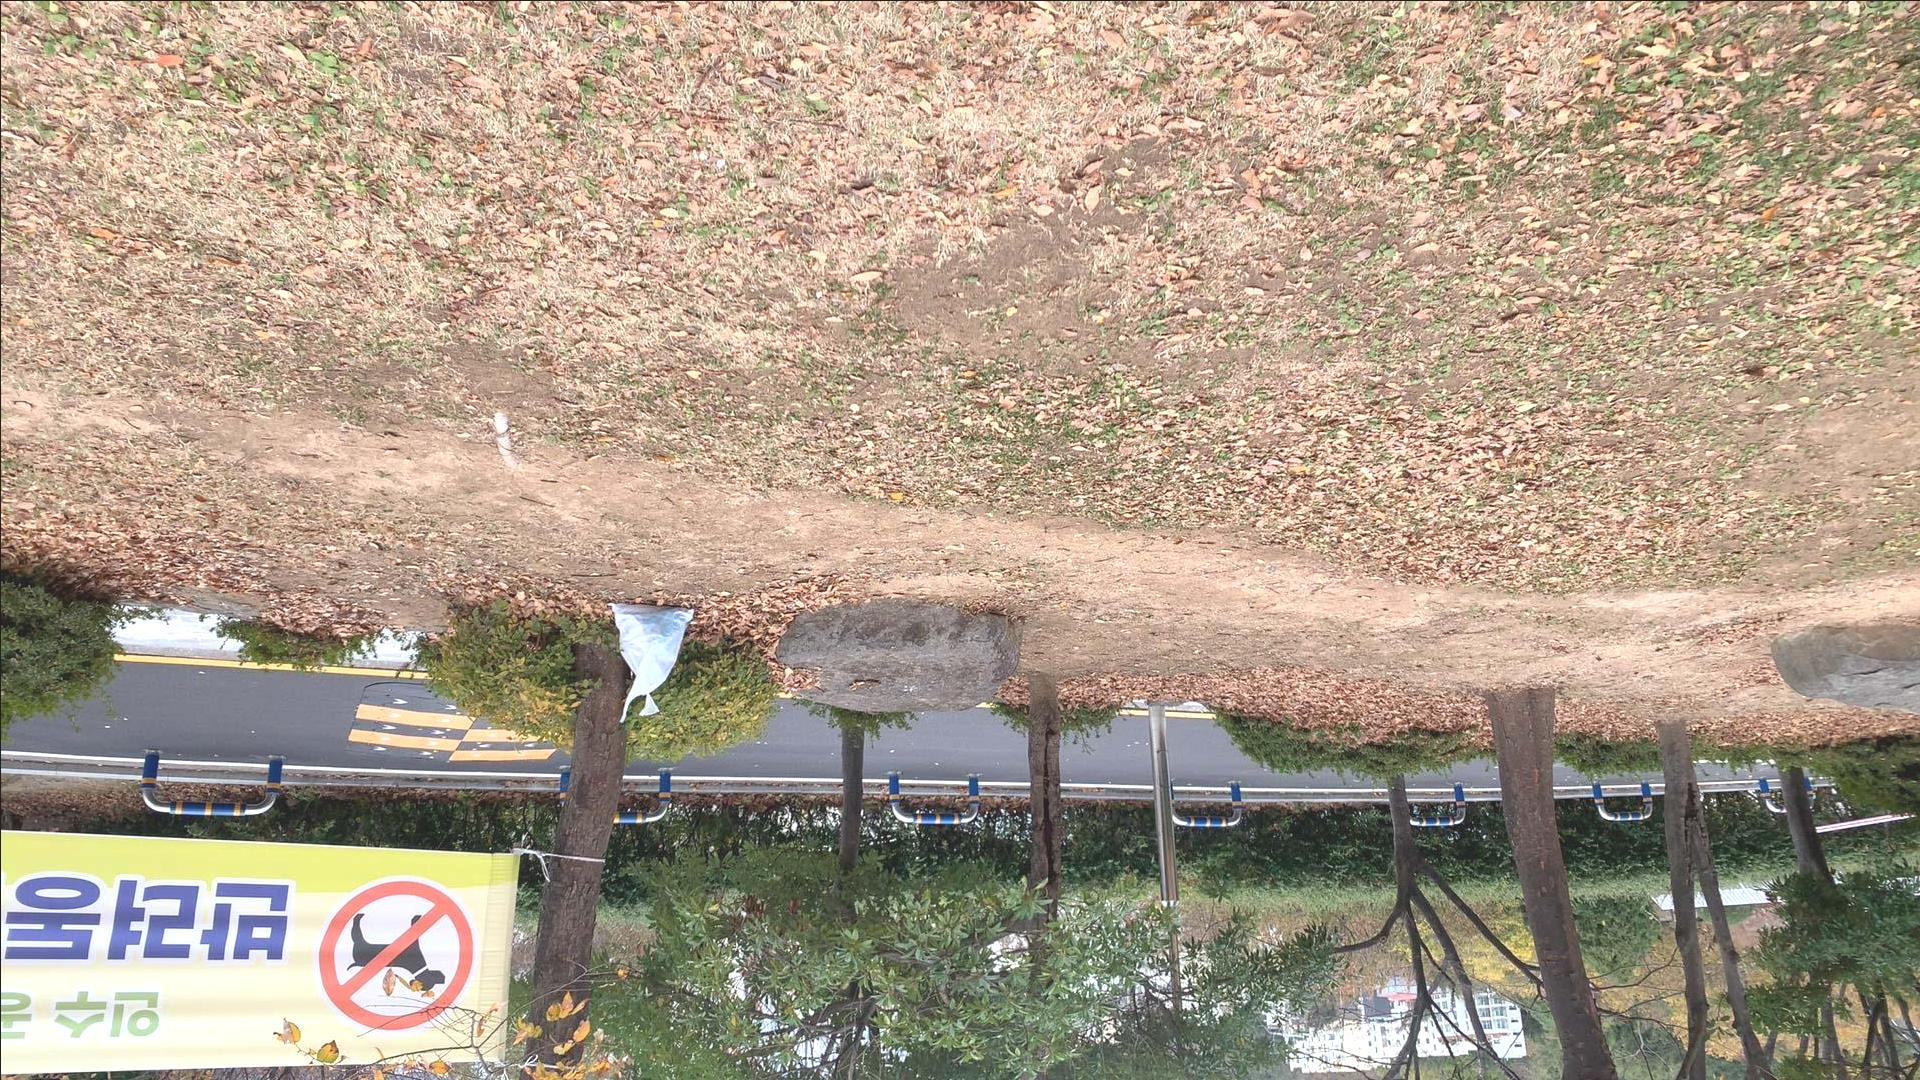white_bag: (607, 595, 702, 731)
